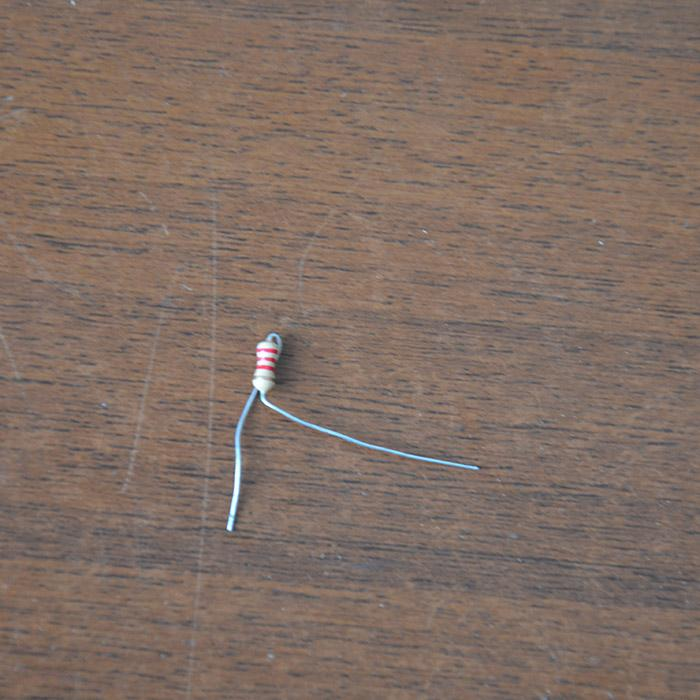resistor: (251, 333, 282, 393)
